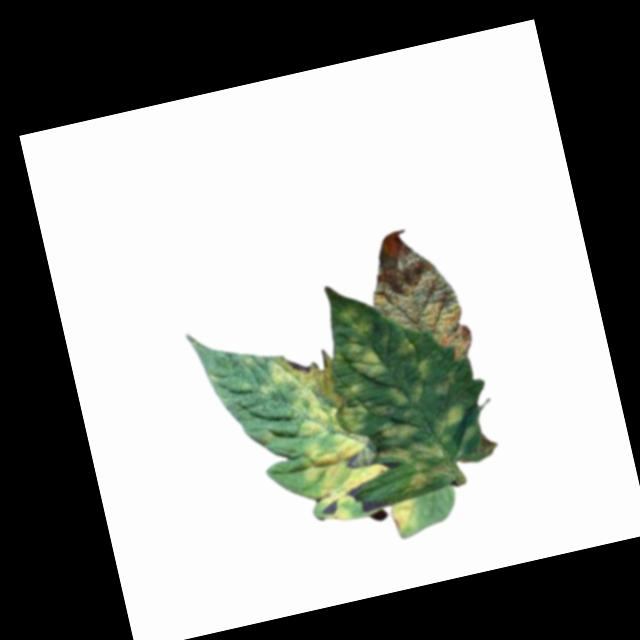Leaf_Mold: (307, 263, 504, 510), (253, 338, 397, 533), (358, 219, 476, 373), (388, 495, 418, 534)
